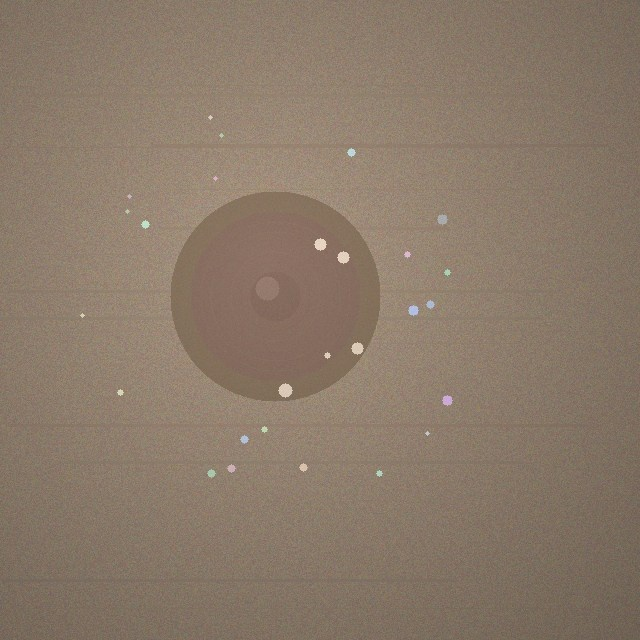overburn: (170, 191, 380, 401)
